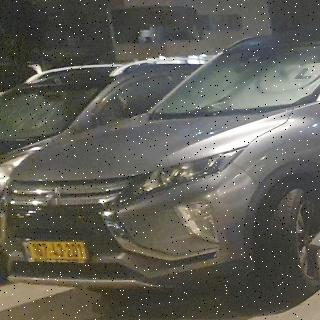LicensePlate: (29, 241, 87, 259)
